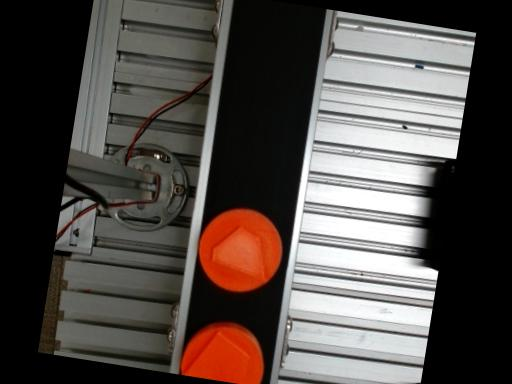Not_Square: (181, 330, 248, 384), (211, 224, 264, 280)
Orange_Waper: (198, 207, 281, 292), (179, 321, 263, 384)
